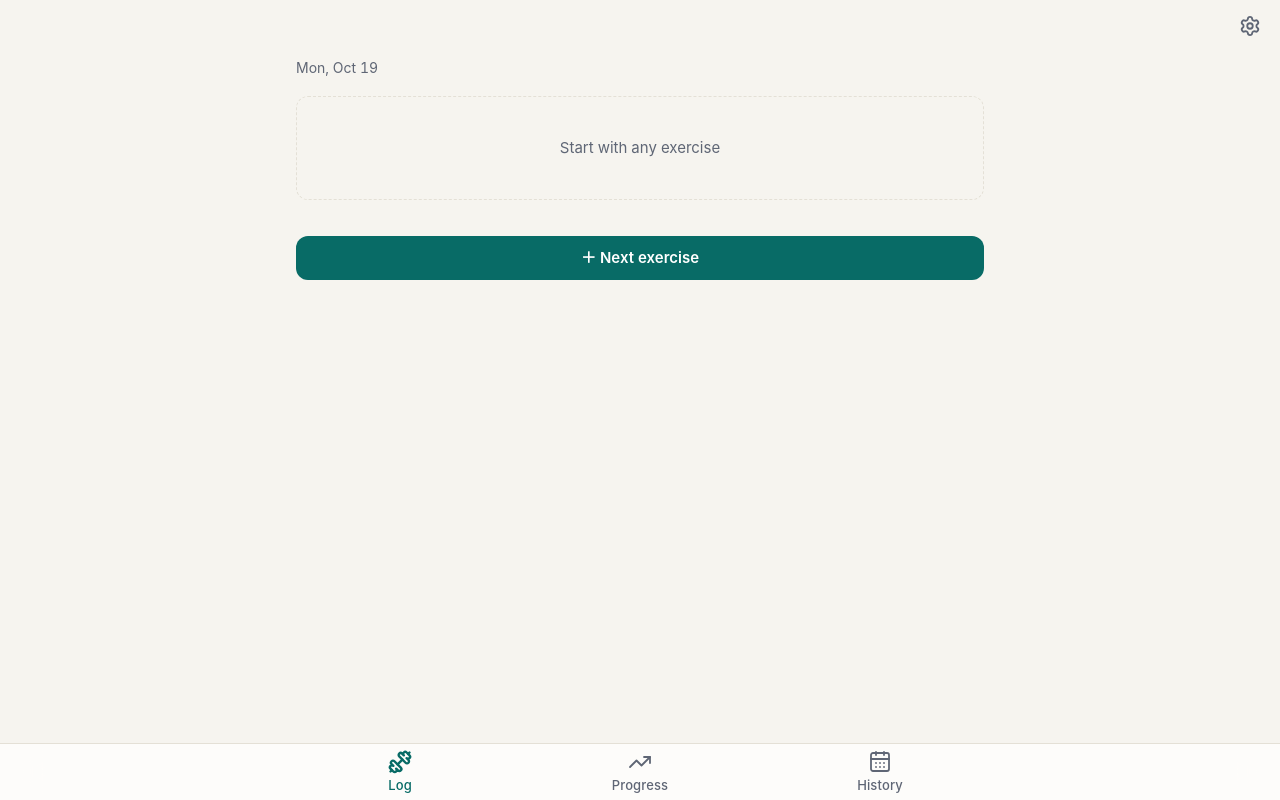
History tab › shows a tapped day's summary
Click the tab "History": (880, 772) x1=760 y1=744 x2=1000 y2=799
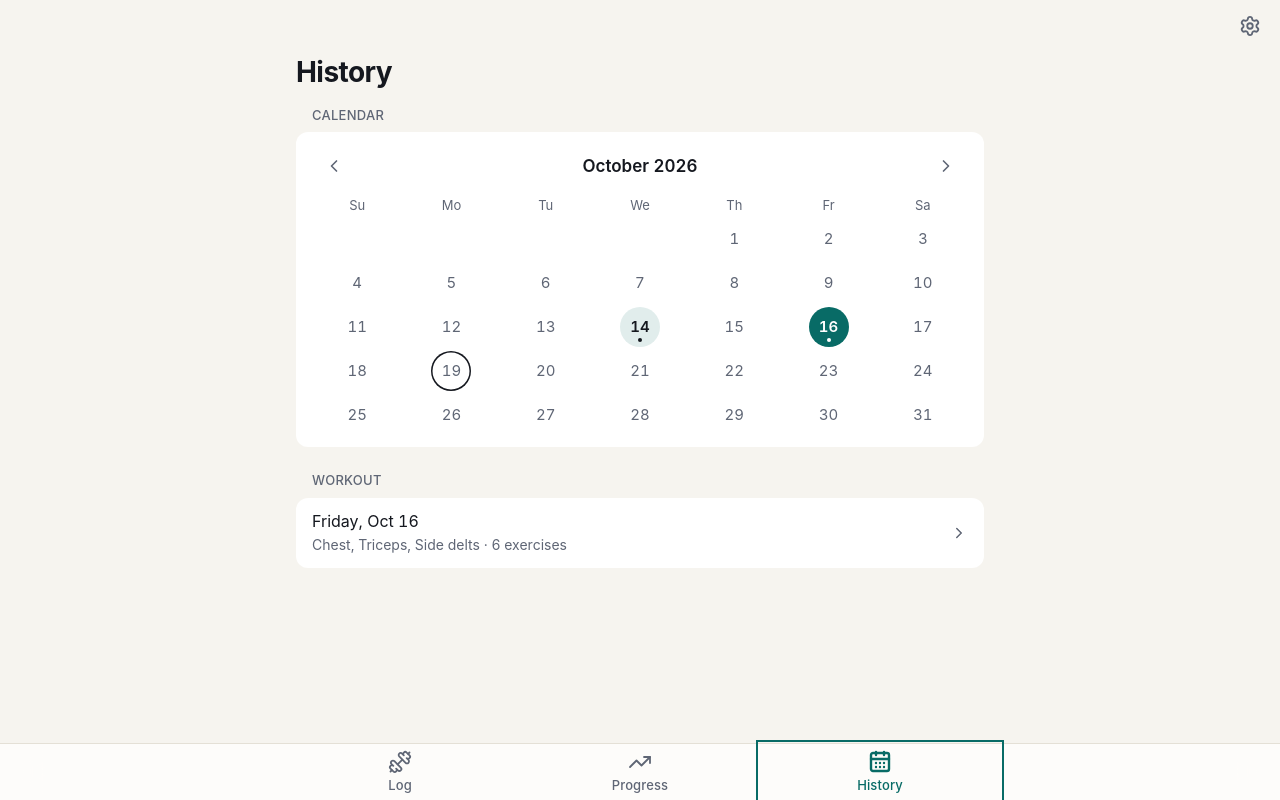
Click the button named "Wednesday, October 14, workout": (640, 327) x1=620 y1=307 x2=660 y2=347
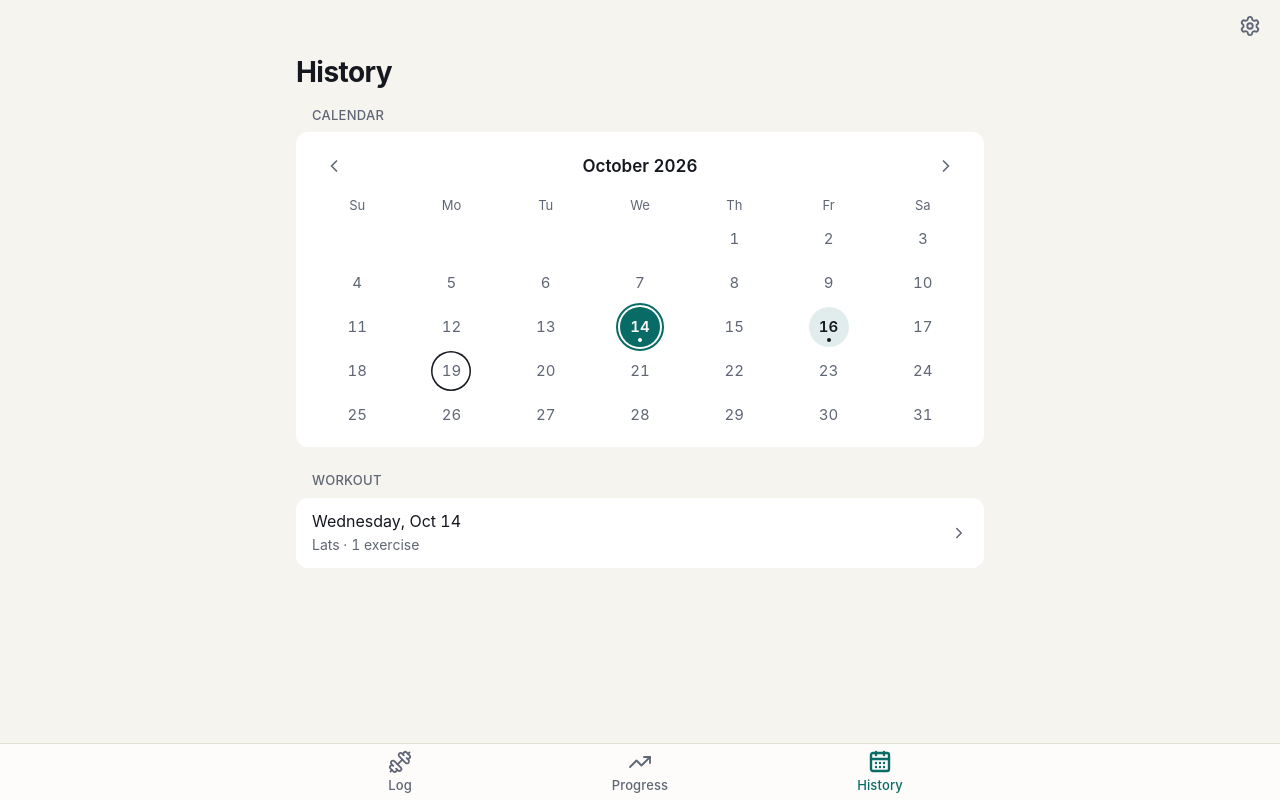
Result: the button "Wednesday, Oct 14 Lats · 1 exercise" is shown at x1=296 y1=498 x2=984 y2=568
